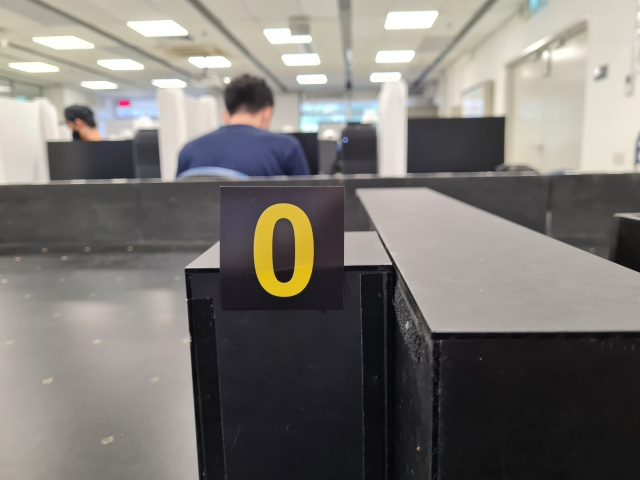zero: (220, 186, 346, 309)
